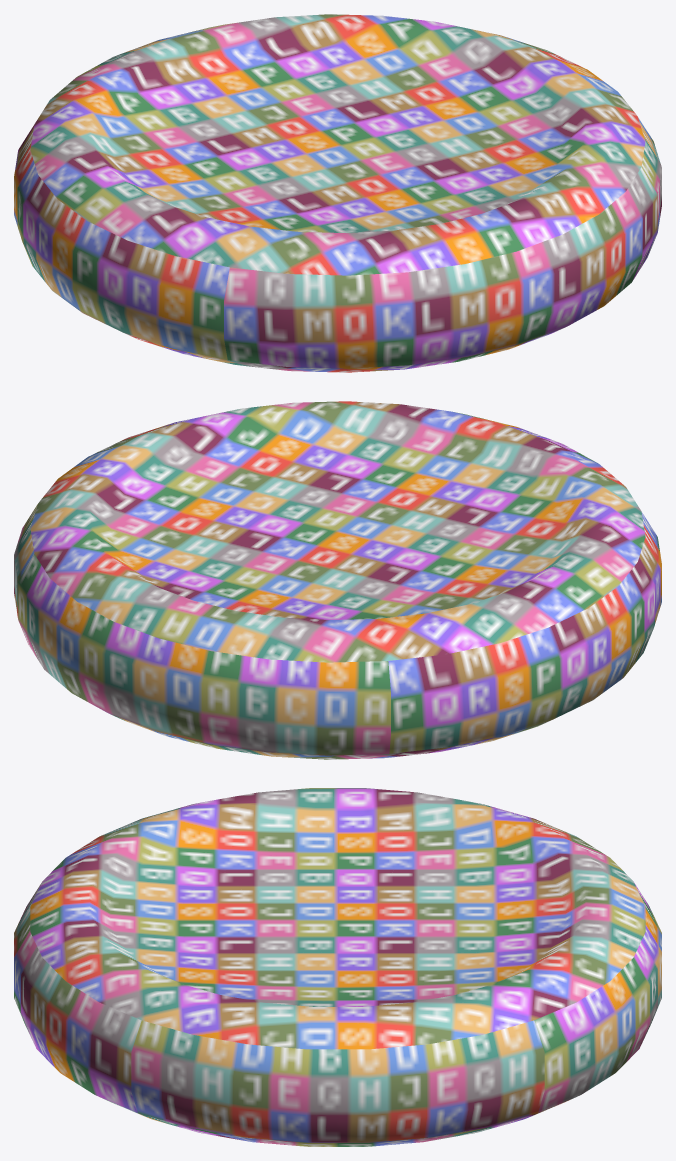
Rendered from nodeMesh.obj.
The picture shows the model from 3 angles, top to bottom: view 1: azimuth 30°, elevation 25°; view 2: azimuth 150°, elevation 25°; view 3: azimuth 270°, elevation 25°; orthographic projection.
Visible parts, largest first — view 1: NodeMesh; view 2: NodeMesh; view 3: NodeMesh.
Boxes of the visible parts, box(x1,y1,x2,y2) form: NodeMesh: box(14, 14, 661, 372); NodeMesh: box(14, 401, 661, 759); NodeMesh: box(14, 788, 661, 1146).
Size of the model in its own units: 1.96 by 0.4265 by 1.96.
Materials: 1 (1 with a texture image).
